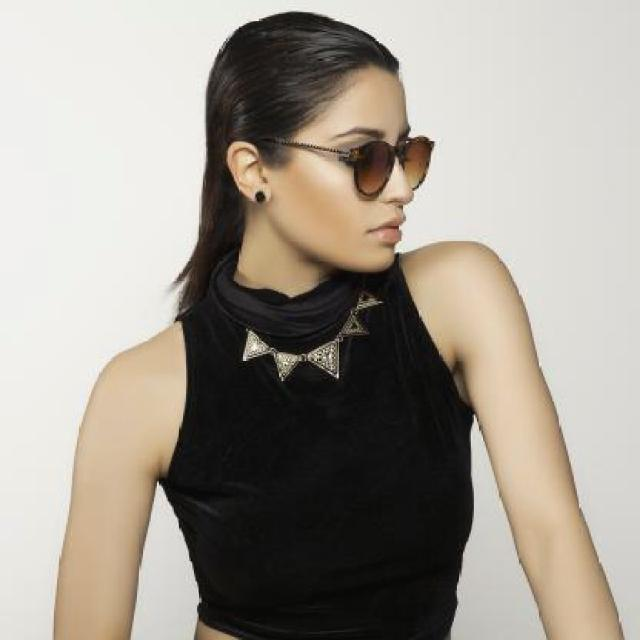face_nomask: (288, 96, 441, 276)
glasses: (260, 135, 434, 199)
head_nohelmet: (191, 6, 424, 119)
person: (15, 0, 636, 640)
